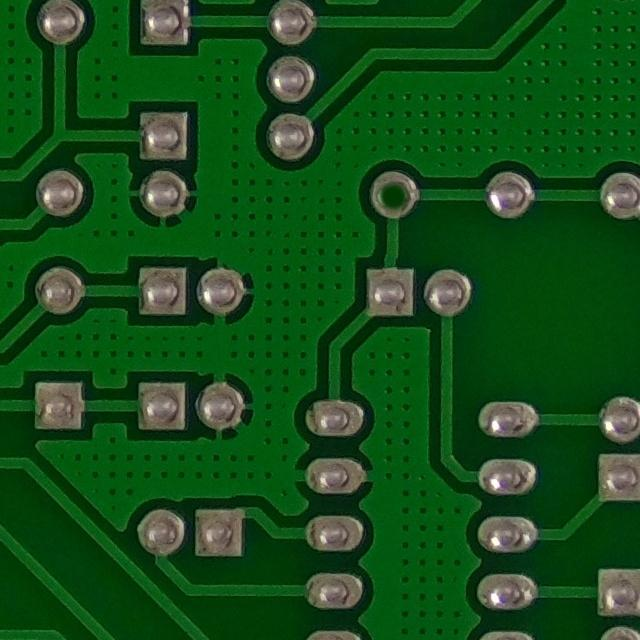missing_hole: (357, 158, 424, 223)
